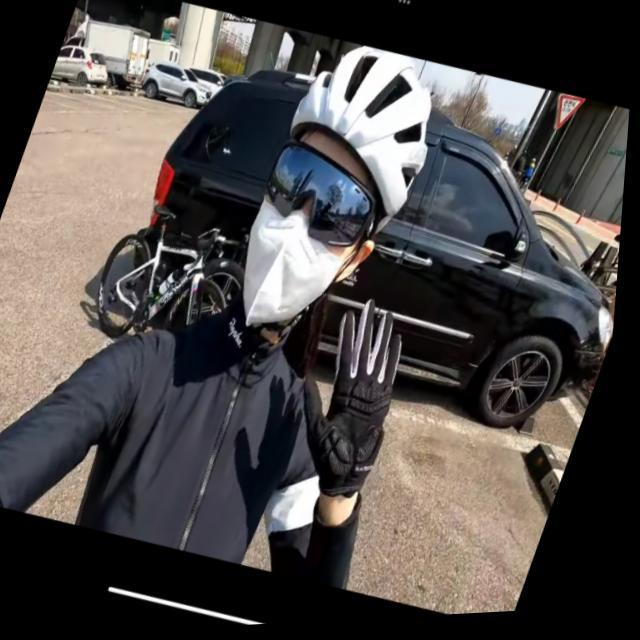Helmet: (236, 43, 435, 328)
